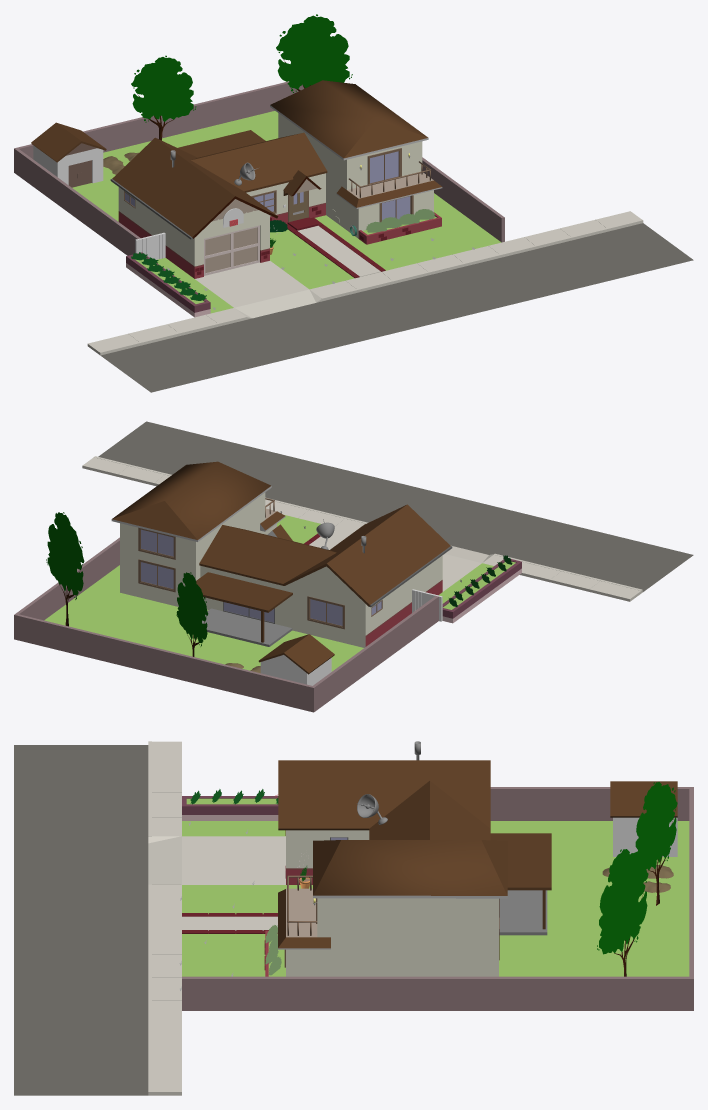
The model's file is fixed model.fbx.
3 renders of one model, top to bottom at view 1: azimuth 30°, elevation 25°; view 2: azimuth 150°, elevation 25°; view 3: azimuth 270°, elevation 25°, orthographic. The views are drawn at different scales.
Visible parts, largest first — view 1: Componente#62, Componente#40, Componente#16, Componente#54, Componente#38, Componente#42, Componente#17, Tree_2D_Schematic_Maple2.001, Tree_2D_Schematic_Maple2, Componente#15, Componente#10, Componente#1 (+6 smaller); view 2: Componente#62, Componente#38, Componente#40, Componente#54, Componente#16, Componente#17, Componente#42, Tree_2D_Schematic_Maple2.001, Componente#49, Componente#47, Componente#45, Tree_2D_Schematic_Maple2 (+8 smaller); view 3: Componente#62, Componente#16, Componente#38, Componente#40, Componente#54, Componente#42, Componente#17, Componente#15, Tree_2D_Schematic_Maple2.001, Tree_2D_Schematic_Maple2, Componente#49, Componente#45 (+5 smaller).
Boxes of the visible parts, box(x1,y1,x2,y2) form: Componente#62: box(100, 223, 693, 392); Componente#40: box(118, 113, 433, 278); Componente#16: box(72, 111, 501, 313); Componente#54: box(112, 132, 327, 238); Componente#38: box(14, 81, 504, 255); Componente#42: box(87, 211, 643, 355); Componente#17: box(270, 80, 428, 160); Tree_2D_Schematic_Maple2.001: box(276, 14, 349, 90); Tree_2D_Schematic_Maple2: box(131, 55, 193, 140); Componente#15: box(195, 261, 308, 307); Componente#10: box(287, 217, 385, 278); Componente#1: box(33, 143, 103, 187); Componente#62: box(98, 421, 693, 591); Componente#38: box(14, 537, 438, 712); Componente#40: box(120, 492, 442, 647); Componente#54: box(199, 504, 450, 606); Componente#16: box(44, 515, 493, 671); Componente#17: box(111, 461, 271, 541); Componente#42: box(82, 456, 642, 601); Tree_2D_Schematic_Maple2.001: box(47, 512, 84, 626); Componente#49: box(196, 572, 292, 611); Componente#47: box(202, 608, 292, 646); Componente#45: box(442, 559, 521, 623); Tree_2D_Schematic_Maple2: box(177, 572, 208, 656); Componente#62: box(14, 745, 148, 1095); Componente#16: box(182, 821, 689, 976); Componente#38: box(182, 787, 693, 1010); Componente#40: box(285, 830, 498, 976); Componente#54: box(278, 760, 490, 840); Componente#42: box(148, 741, 181, 1095); Componente#17: box(313, 840, 507, 898); Componente#15: box(182, 836, 285, 884); Tree_2D_Schematic_Maple2.001: box(599, 849, 648, 976); Tree_2D_Schematic_Maple2: box(635, 782, 677, 905); Componente#49: box(490, 833, 551, 889); Componente#45: box(182, 796, 278, 820).
Bounding box in the file's own units: 4324 × 870 × 3545.
